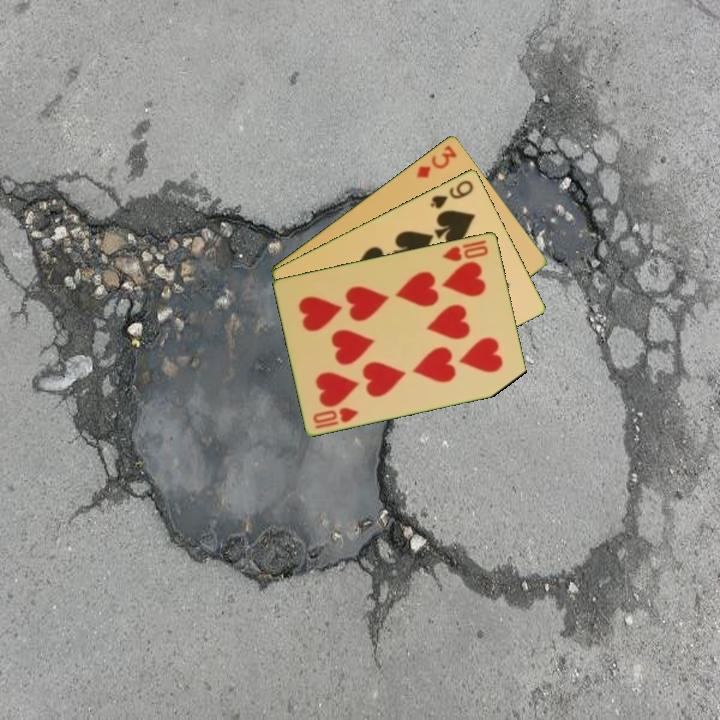10h: (309, 403, 361, 431), (439, 241, 491, 264)
3d: (413, 141, 460, 181)
9s: (427, 176, 476, 211)
